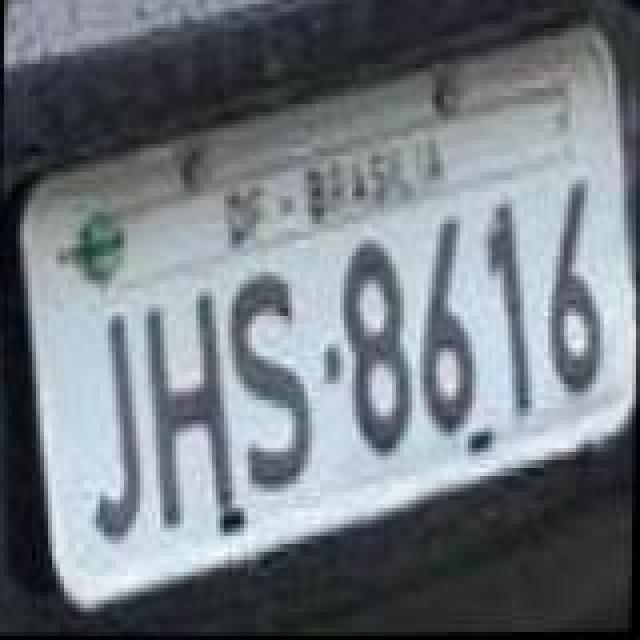1: (480, 200, 540, 420)
6: (416, 214, 484, 434), (542, 178, 606, 394)
8: (338, 242, 418, 458)
H: (138, 290, 238, 534)
J: (92, 310, 148, 542)
S: (220, 268, 316, 492)
